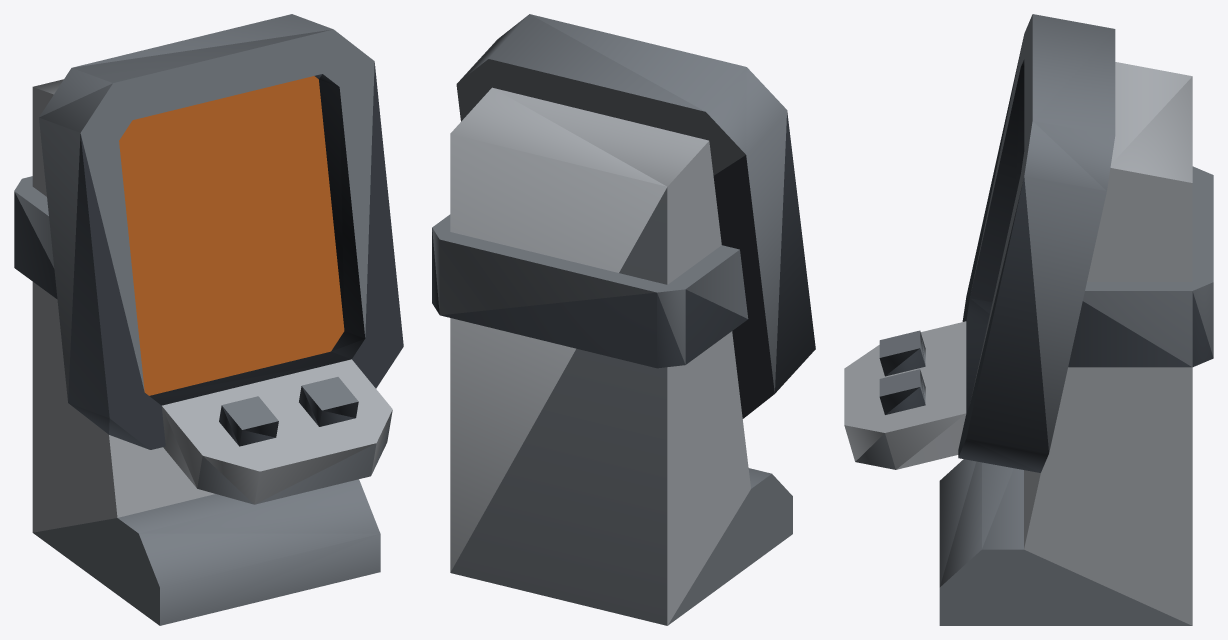
File: Kit_computer.fbx
The picture shows the model from 3 angles, left to right: view 1: azimuth 30°, elevation 25°; view 2: azimuth 150°, elevation 25°; view 3: azimuth 270°, elevation 25°; orthographic projection.
Parts seen in each view (by area): view 1: Kit_computer; view 2: Kit_computer; view 3: Kit_computer.
Part boxes in pixels (<box>): Kit_computer: <box>14,14,403,625</box>; Kit_computer: <box>432,14,815,625</box>; Kit_computer: <box>844,14,1213,625</box>.
Size of the model in its own units: 0.4 by 0.6609 by 0.4381.
